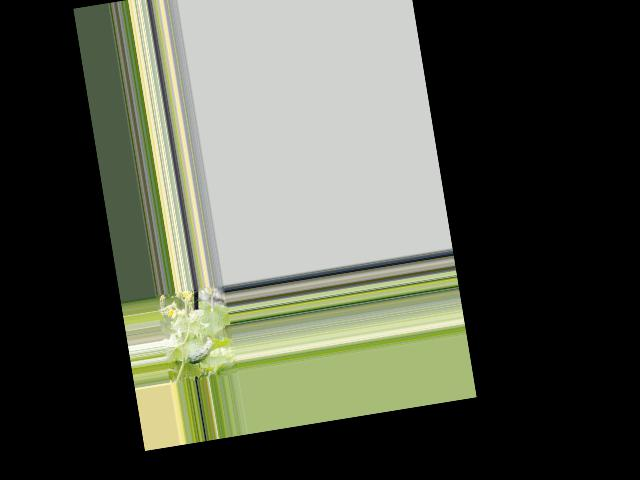cucumber: (183, 336, 215, 364)
